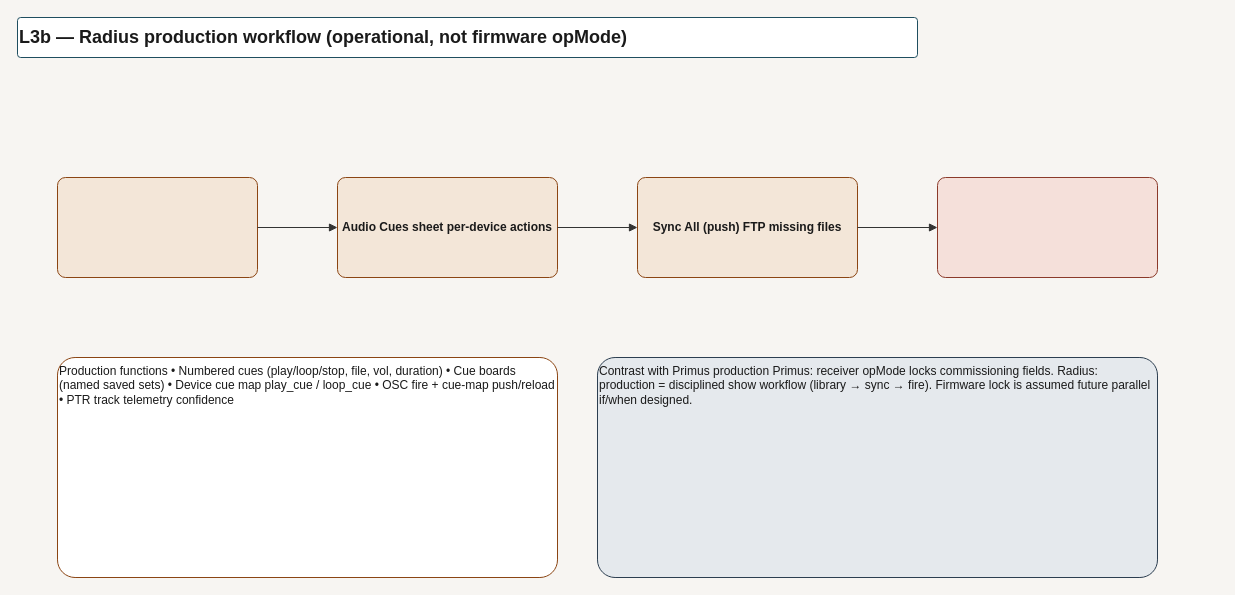
Some shapes in this 1235 by 595 pixel diagram are drawn without their labels. The centre of each missing label's shape, as x and y in pixels:
Fire / OSC / cue# ArtAudioCmd: the point at 1047,227
Project library audio/*.wav: the point at 157,227
Show-ready path on radius-central — no Primus-style production lock yet: the point at 617,73
